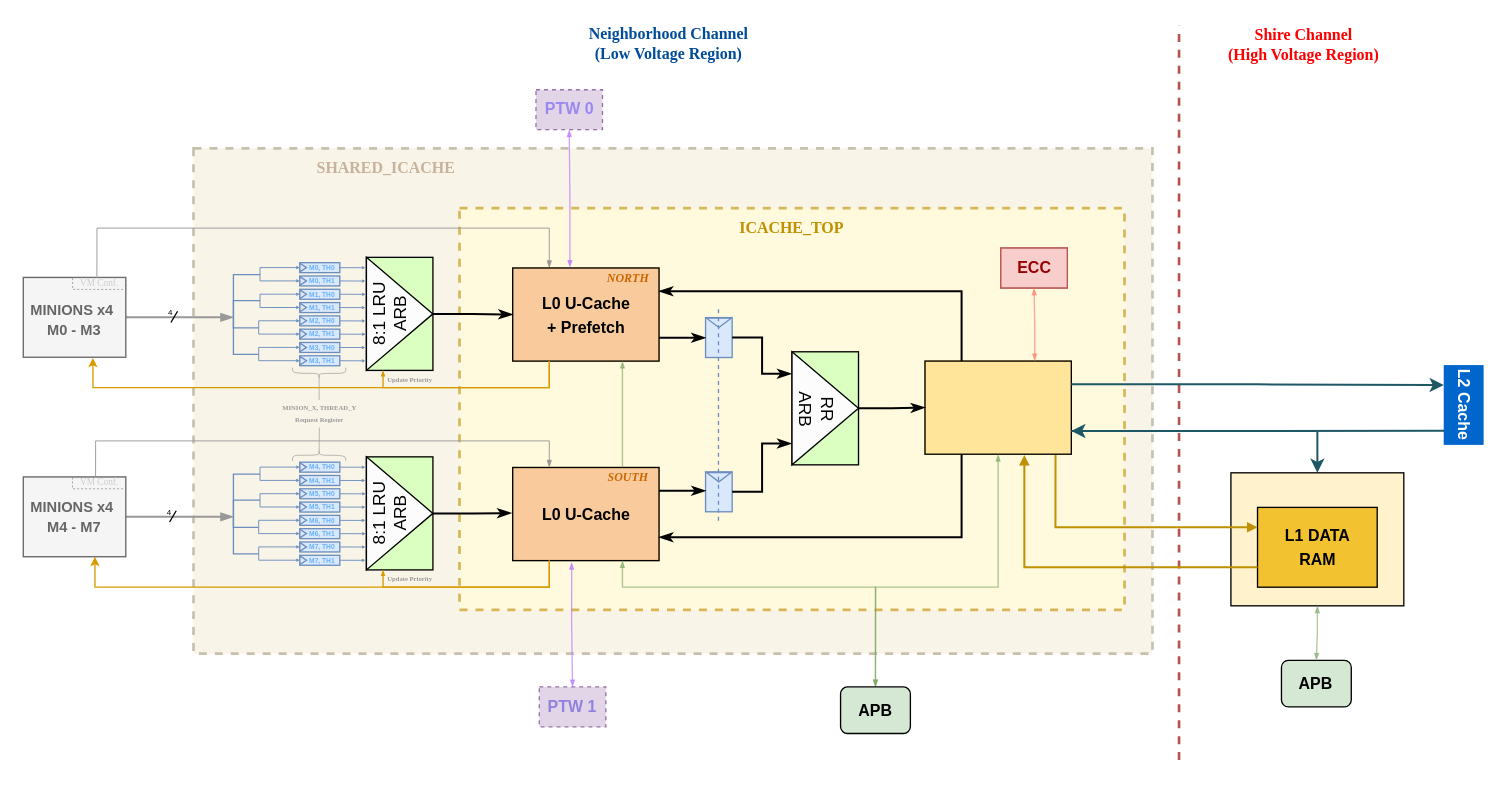
Some shapes in this 1507 by 785 pixel diagram are drawn without their labels. Each missing label, with the box of its shape:
32KB L1 ICache: (924, 360, 1071, 454)
ICACHE: (1230, 471, 1404, 606)
